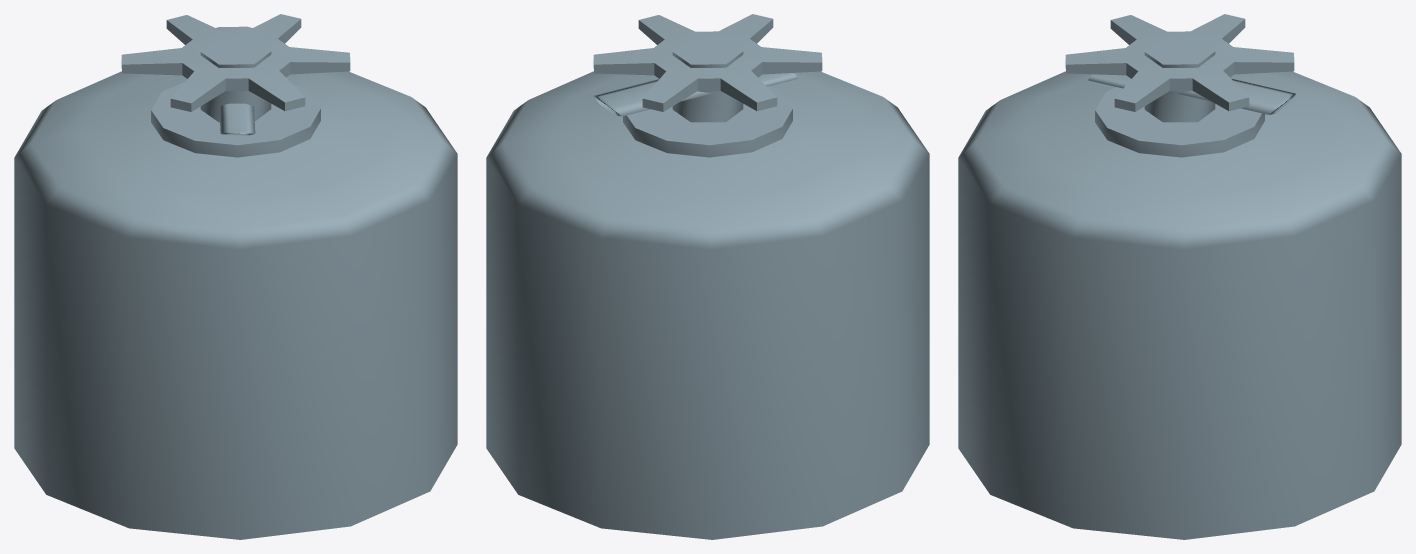
The model's file is gas_tank.glb.
3 views of the same model, side by side, from view 1: azimuth 30°, elevation 25°; view 2: azimuth 150°, elevation 25°; view 3: azimuth 270°, elevation 25° (orthographic).
Visible parts, largest first — view 1: gas_tank; view 2: gas_tank; view 3: gas_tank.
Part boxes in pixels (x1=…): gas_tank: x1=14, y1=14, x2=457, y2=539; gas_tank: x1=486, y1=14, x2=929, y2=539; gas_tank: x1=958, y1=14, x2=1401, y2=539.
Size of the model in its own units: 1 by 1 by 1.
